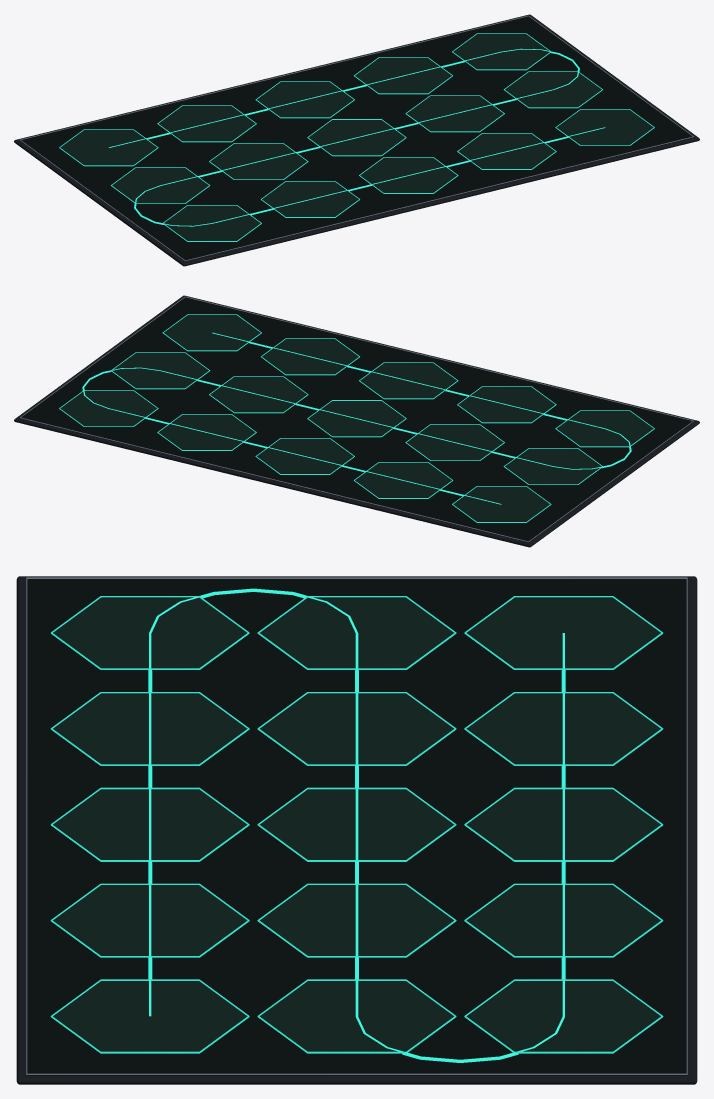
The model's file is hive.glb.
The picture shows the model from 3 angles, top to bottom: view 1: azimuth 30°, elevation 25°; view 2: azimuth 150°, elevation 25°; view 3: azimuth 270°, elevation 25°; orthographic projection. The views are drawn at different scales.
Parts seen in each view (by area): view 1: Hive_Ground, Hive_Plate, Pad_14, Pad_08, Pad_09, Pad_00, Pad_10, Pad_07, Pad_01, Pad_03, Pad_04, Pad_13 (+7 smaller); view 2: Hive_Ground, Hive_Plate, Pad_09, Pad_08, Pad_04, Pad_00, Pad_07, Pad_11, Pad_14, Pad_03, Pad_13, Pad_01 (+7 smaller); view 3: Hive_Ground, Hive_Plate, Pad_00, Pad_10, Pad_09, Pad_14, Pad_01, Pad_03, Pad_11, Pad_13, Pad_08, Pad_06 (+22 smaller).
Boxes of the visible parts, box(x1,y1,x2,y2) form: Hive_Ground: box(21, 16, 692, 261); Hive_Plate: box(14, 14, 699, 266); Pad_14: box(555, 109, 654, 146); Pad_08: box(209, 143, 307, 180); Pad_09: box(111, 167, 209, 204); Pad_00: box(59, 130, 157, 166); Pad_10: box(164, 205, 261, 242); Pad_07: box(307, 120, 406, 156); Pad_01: box(157, 106, 255, 142); Pad_03: box(354, 58, 452, 94); Pad_04: box(452, 34, 550, 70); Pad_13: box(458, 133, 555, 170); Hive_Ground: box(21, 297, 692, 542); Hive_Plate: box(14, 295, 699, 547); Pad_09: box(504, 448, 601, 485); Pad_08: box(406, 424, 504, 461); Pad_04: box(59, 390, 158, 427); Pad_00: box(452, 486, 550, 523); Pad_07: box(307, 401, 406, 437); Pad_11: box(458, 387, 556, 423); Pad_14: box(163, 315, 261, 351); Pad_03: box(158, 414, 255, 451); Pad_13: box(261, 339, 359, 375); Pad_01: box(354, 462, 452, 499); Hive_Ground: box(26, 579, 687, 1075); Hive_Plate: box(16, 576, 697, 1084); Pad_00: box(465, 597, 662, 671); Pad_10: box(51, 597, 248, 671); Pad_09: box(258, 597, 455, 671); Pad_14: box(51, 981, 248, 1054); Pad_01: box(465, 693, 662, 766); Pad_03: box(465, 885, 662, 958); Pad_11: box(51, 693, 248, 766); Pad_13: box(51, 885, 248, 958); Pad_08: box(258, 693, 455, 766); Pad_06: box(258, 885, 455, 958).
Bounding box in the file's own units: 17.9 × 0.1561 × 10.2.
